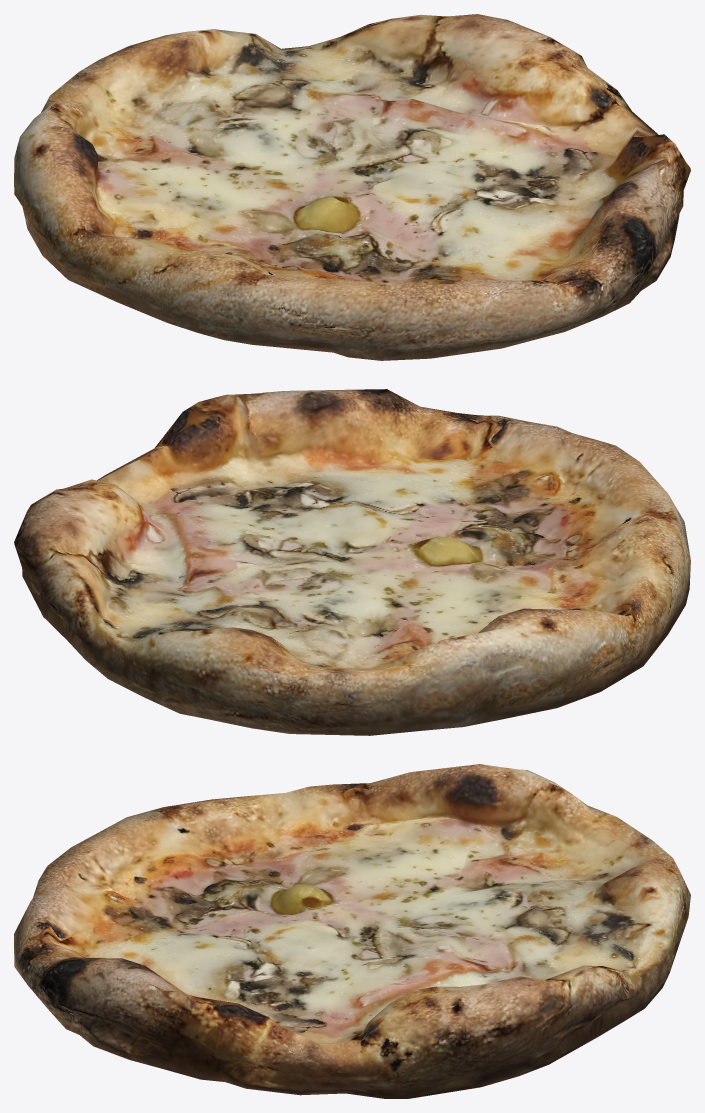
File: pizza (1).glb
3 views of the same model, one above another, from view 1: azimuth 30°, elevation 25°; view 2: azimuth 150°, elevation 25°; view 3: azimuth 270°, elevation 25° (orthographic). The views are drawn at different scales.
Parts seen in each view (by area): view 1: PizzaLP.002; view 2: PizzaLP.002; view 3: PizzaLP.002.
Boxes of the visible parts, x1=… form: PizzaLP.002: x1=14, y1=14, x2=690, y2=360; PizzaLP.002: x1=14, y1=389, x2=690, y2=735; PizzaLP.002: x1=14, y1=764, x2=690, y2=1098.
Bounding box in the file's own units: 0.1954 × 0.0321 × 0.206.
1 material, 1 textured.
